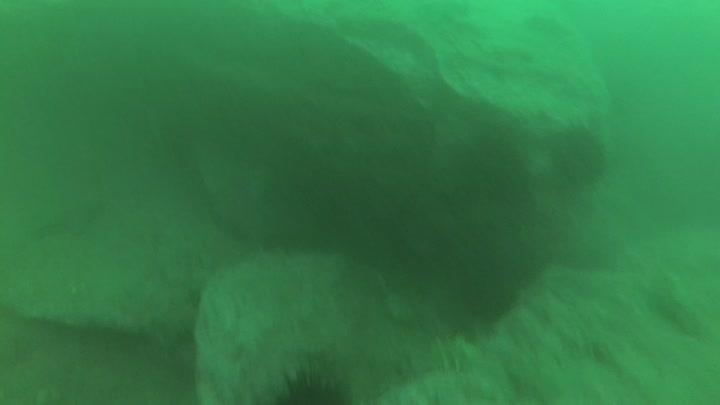echinus: (541, 118, 610, 189), (266, 360, 357, 405)
holothurian: (418, 330, 489, 376)
